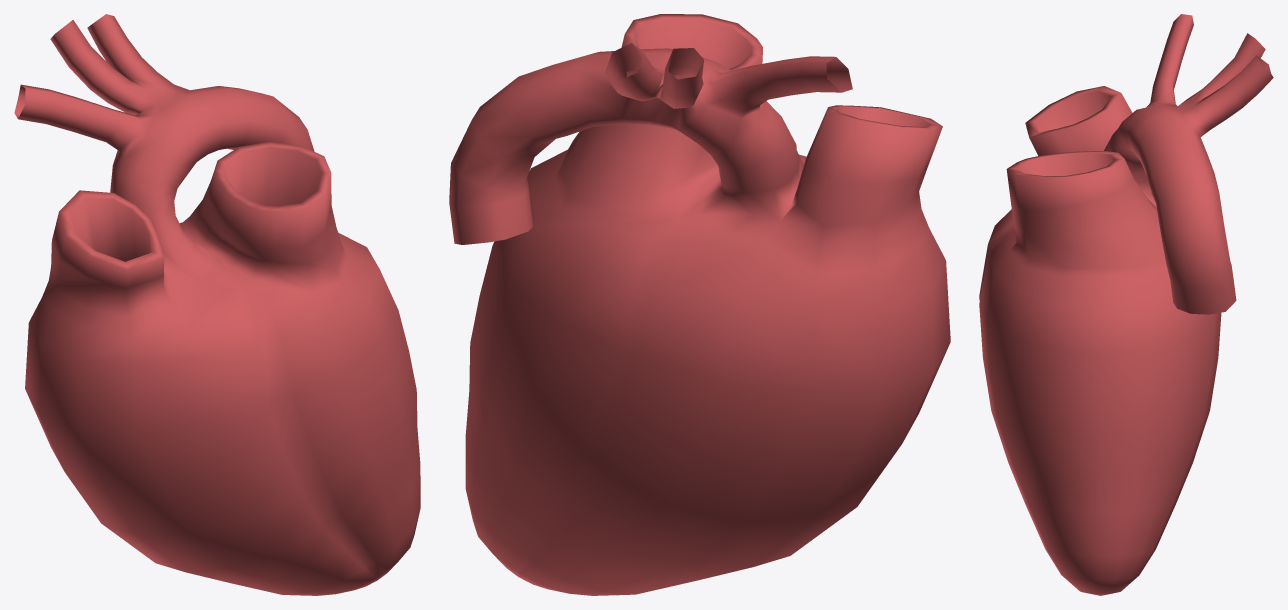
File: anatomical-heart.glb
3 views of the same model, side by side, from view 1: azimuth 30°, elevation 25°; view 2: azimuth 150°, elevation 25°; view 3: azimuth 270°, elevation 25° (orthographic). The views are drawn at different scales.
Visible parts, largest first — view 1: body; view 2: body; view 3: body.
Boxes of the visible parts, left/top/right/bottom form: body: left=14, top=14, right=420, bottom=595; body: left=449, top=14, right=950, bottom=595; body: left=979, top=14, right=1273, bottom=595.
Size of what is drawn, in the model's own units: 0.5733 by 0.8 by 0.4486.
